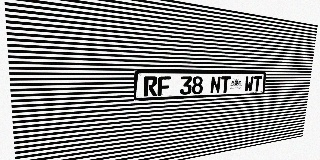plate: (134, 70, 267, 101)
